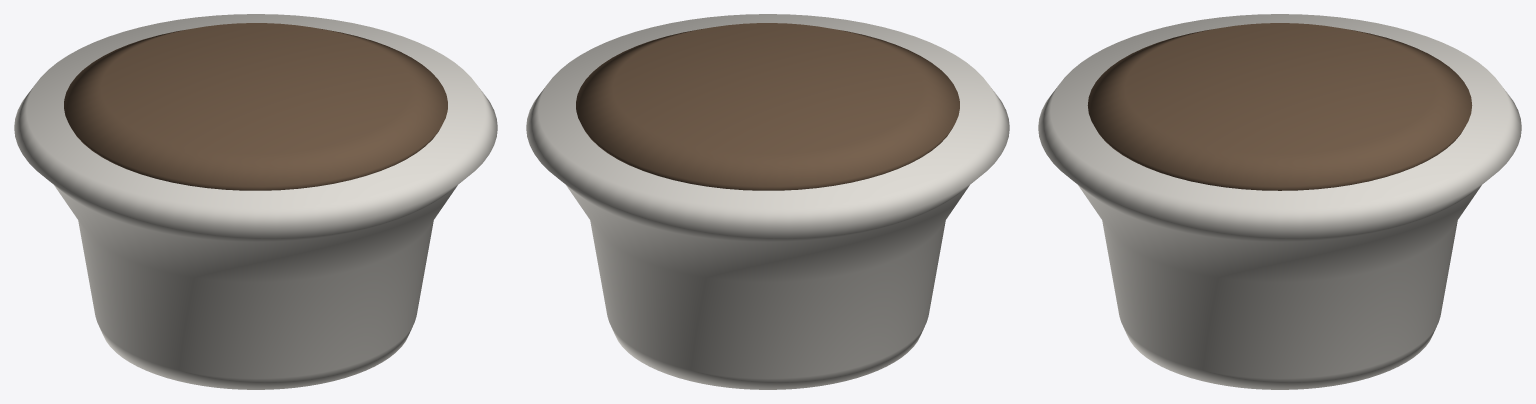
File: pot.glb
3 views of the same model, side by side, from view 1: azimuth 30°, elevation 25°; view 2: azimuth 150°, elevation 25°; view 3: azimuth 270°, elevation 25° (orthographic).
Parts seen in each view (by area): view 1: Pot, Soil; view 2: Pot, Soil; view 3: Pot, Soil.
Boxes of the visible parts, x1,y1,x2,y2 form: Pot: (14, 14, 497, 389); Soil: (64, 23, 447, 190); Pot: (526, 14, 1009, 389); Soil: (576, 23, 959, 190); Pot: (1038, 14, 1521, 389); Soil: (1087, 23, 1472, 190).
Size of the model in its own units: 1.56 by 0.84 by 1.56.
